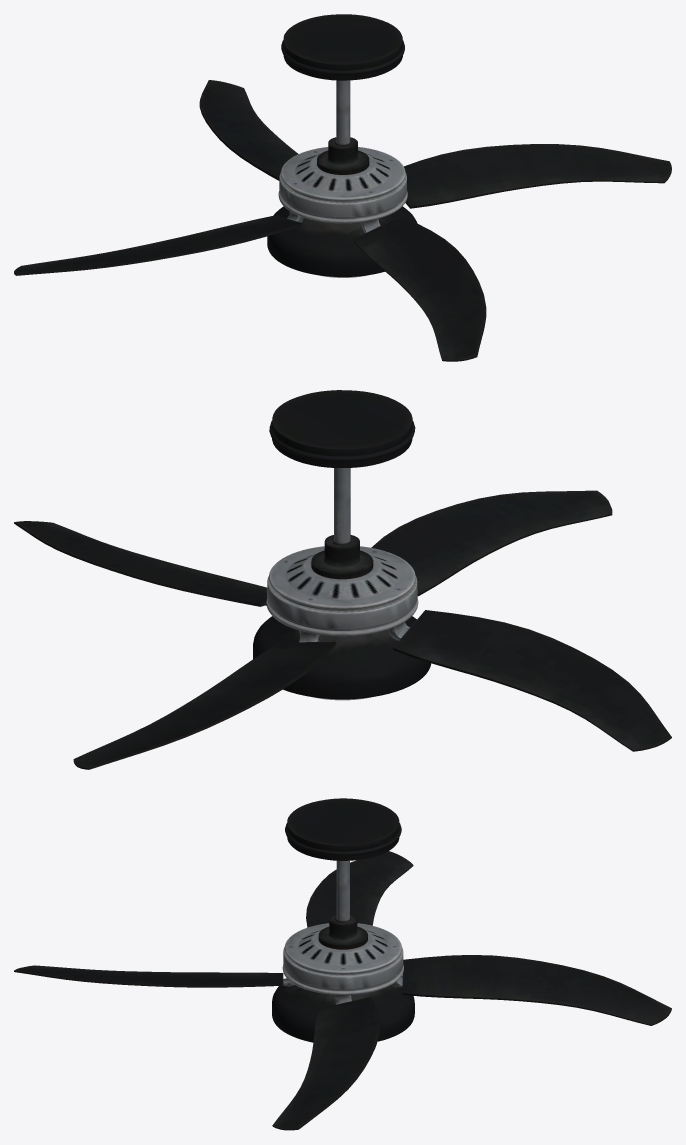
Rendered from ceiling-fan.glb.
The picture shows the model from 3 angles, top to bottom: view 1: azimuth 30°, elevation 25°; view 2: azimuth 150°, elevation 25°; view 3: azimuth 270°, elevation 25°; orthographic projection. The views are drawn at different scales.
Visible parts, largest first — view 1: ceiling_fan; view 2: ceiling_fan; view 3: ceiling_fan.
Part boxes in pixels (<box>): ceiling_fan: <box>14,14,671,361</box>; ceiling_fan: <box>14,390,671,769</box>; ceiling_fan: <box>14,798,671,1130</box>.
Bounding box in the file's own units: 1.46 × 0.5163 × 1.46.
Materials: 1 (1 with a texture image).
